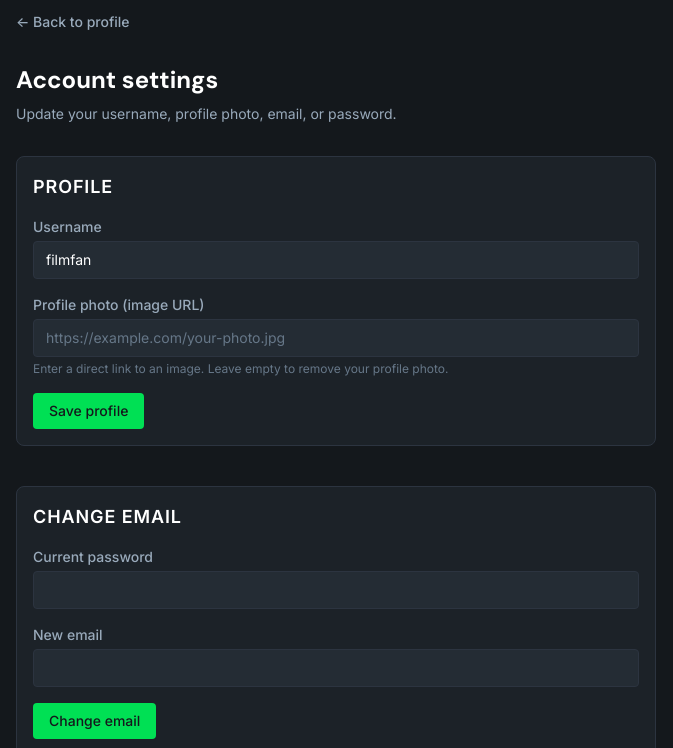
Scenario: SettingsPage › authenticated – Profile form › displays success message after saving profile
Replace the text in the field labelled "Username" with "newname" at (336, 260), box [33,241,639,279]
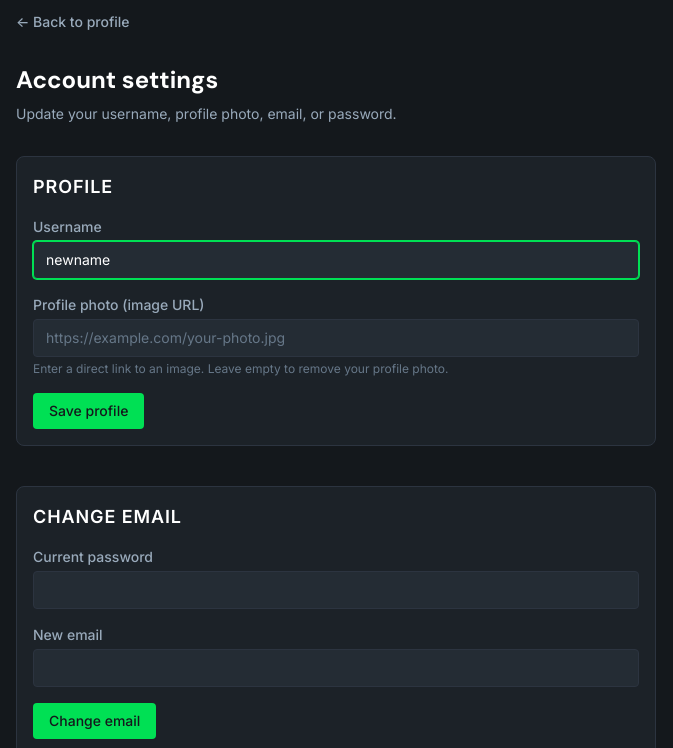
Click the button "Save profile" at (89, 411), box [33,393,144,429]
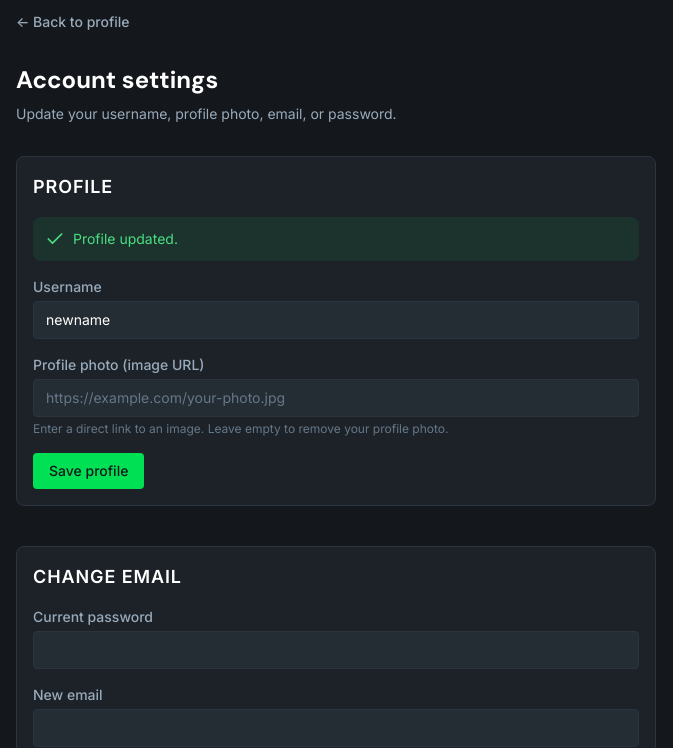
Expected: the text "Profile updated." is shown, [73,229,178,249]
